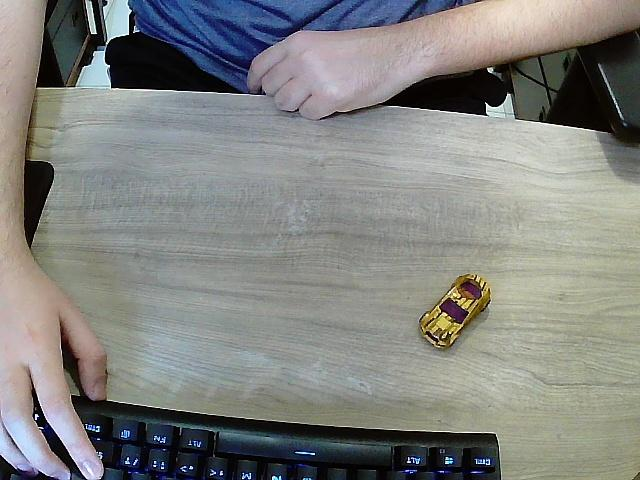Carro: (418, 274, 492, 351)
